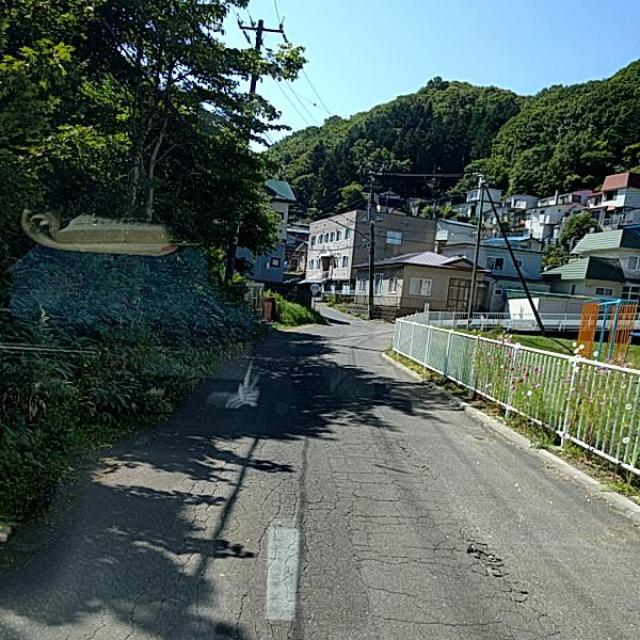Crack: (192, 323, 556, 640)
